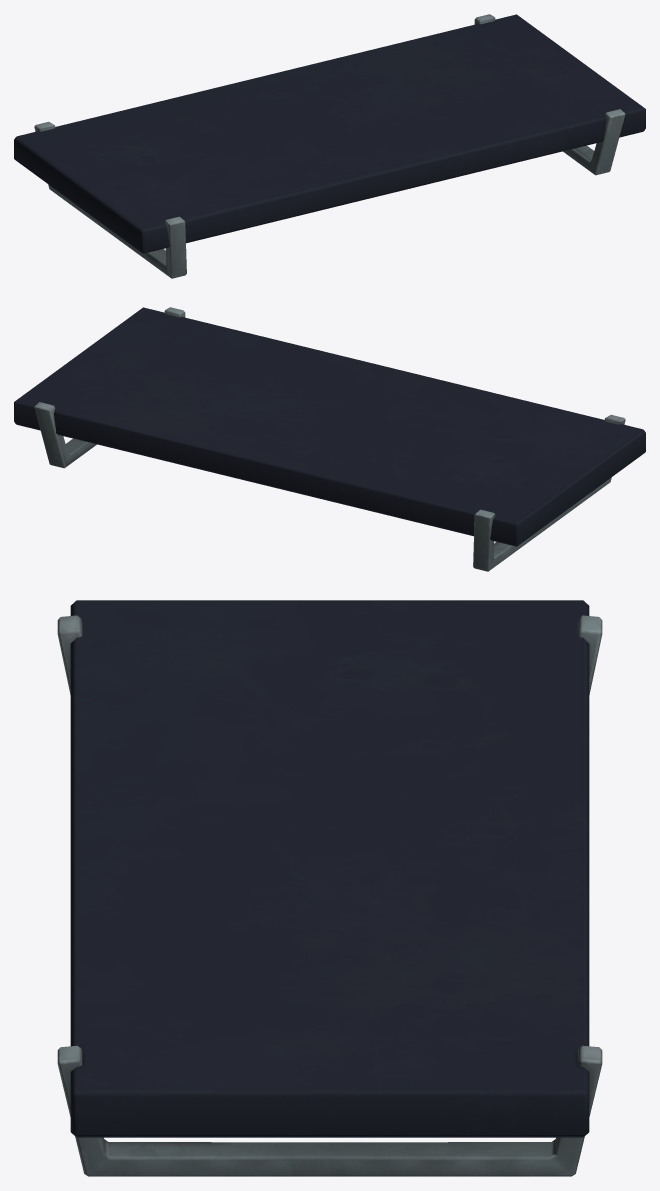
Rendered from SM_Table003.glb.
3 views of the same model, one above another, from view 1: azimuth 30°, elevation 25°; view 2: azimuth 150°, elevation 25°; view 3: azimuth 270°, elevation 25° (orthographic). The views are drawn at different scales.
Visible parts, largest first — view 1: SM_Table003; view 2: SM_Table003; view 3: SM_Table003.
Part boxes in pixels (<box>): SM_Table003: <box>14,14,645,278</box>; SM_Table003: <box>14,307,645,571</box>; SM_Table003: <box>57,600,602,1176</box>.
Bounding box in the file's own units: 4.5 × 0.5371 × 2.1.
1 material, 1 textured.
